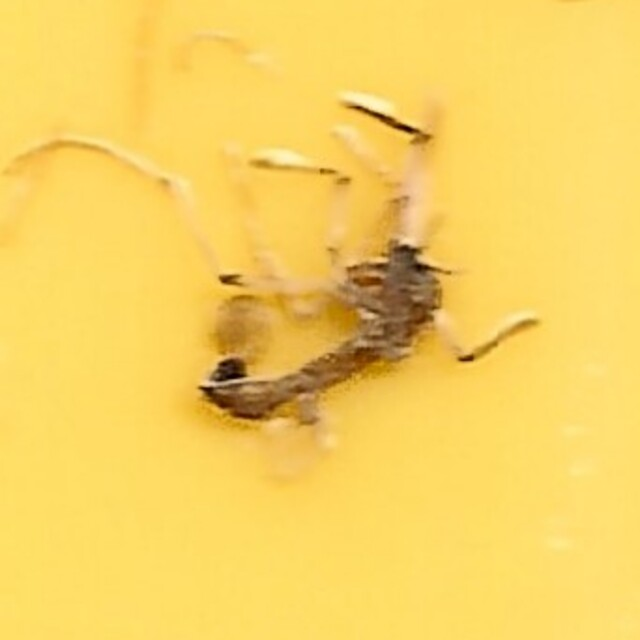Nematocera: (187, 201, 453, 439)
